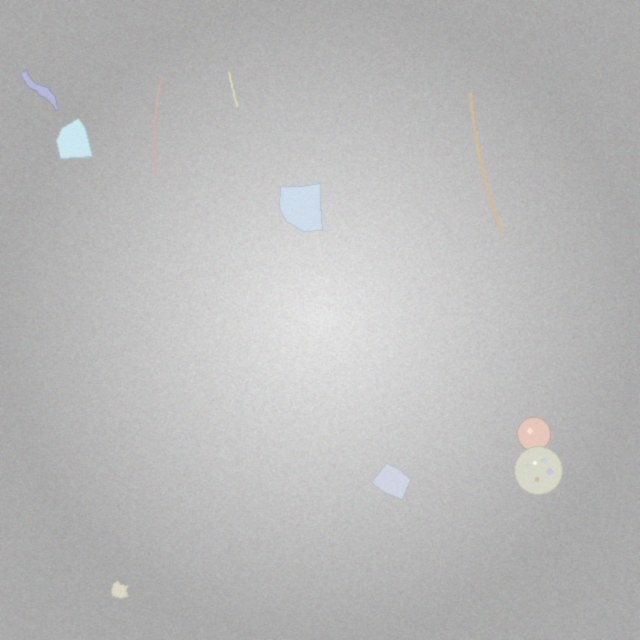fiber: (467, 90, 505, 236), (151, 75, 164, 175), (226, 71, 239, 109)
film: (21, 69, 59, 111)
foam: (515, 447, 562, 494)
fragment: (279, 183, 323, 232), (56, 119, 92, 159), (371, 464, 410, 499), (111, 581, 129, 598)
pellet: (517, 418, 550, 451)
